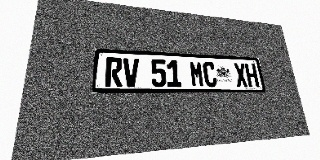1: (166, 60, 182, 87)
5: (151, 59, 167, 87)
C: (202, 61, 218, 87)
H: (244, 63, 259, 87)
M: (189, 61, 205, 87)
R: (105, 57, 123, 87)
V: (123, 58, 139, 87)
X: (233, 63, 248, 87)
